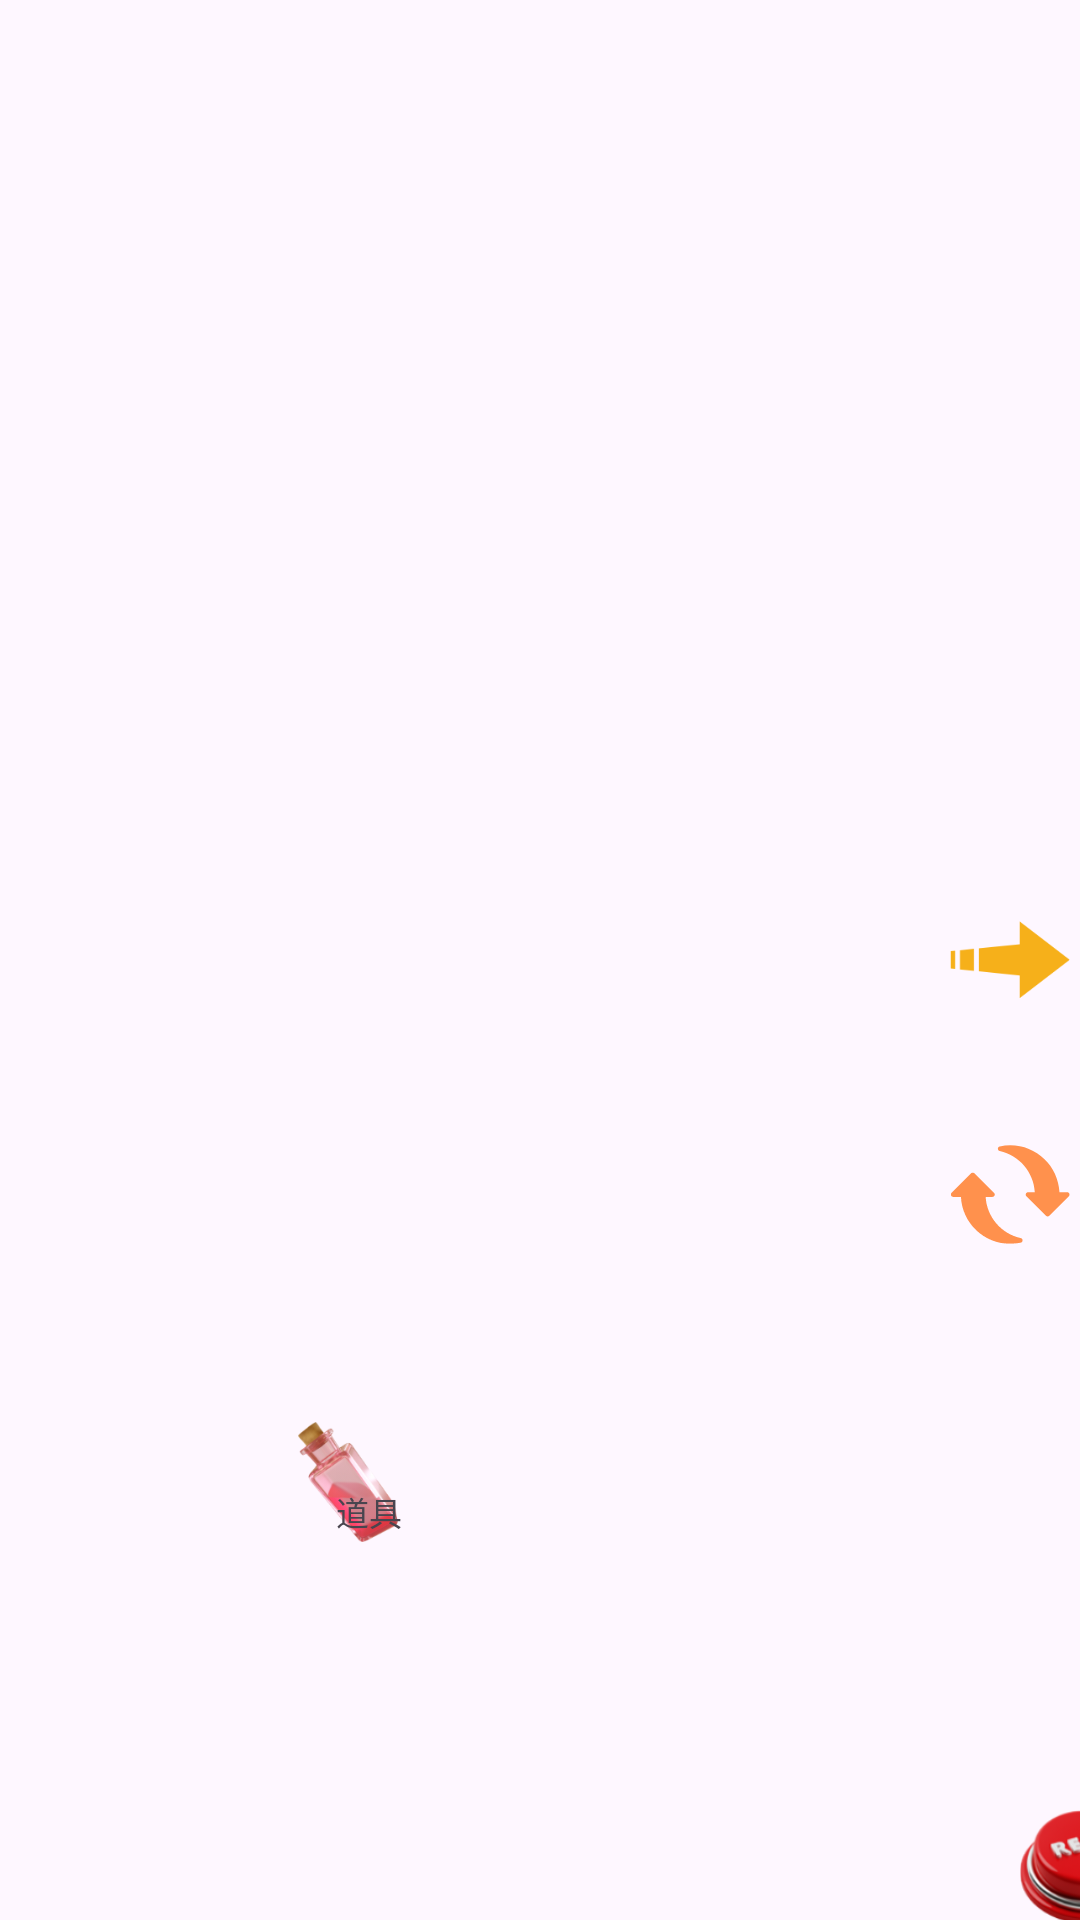

Icon click points for this 1080 × 1920 phone screenshot, format (x,y):
右移动: (1010,959)
旋转: (1010,1194)
